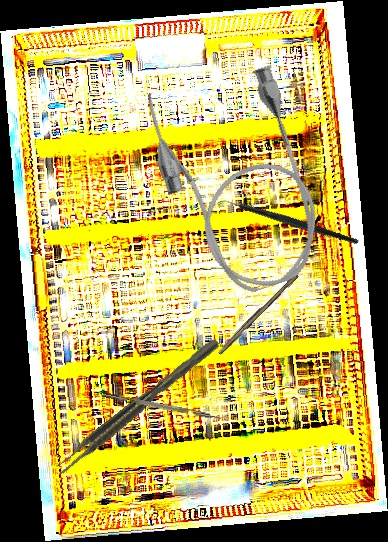Cannula: (135, 52, 339, 309)
Chopper: (211, 157, 360, 289), (102, 385, 229, 424)
Scalpel Handle: (216, 271, 299, 357)
Tissue Forceps: (51, 337, 225, 478)
